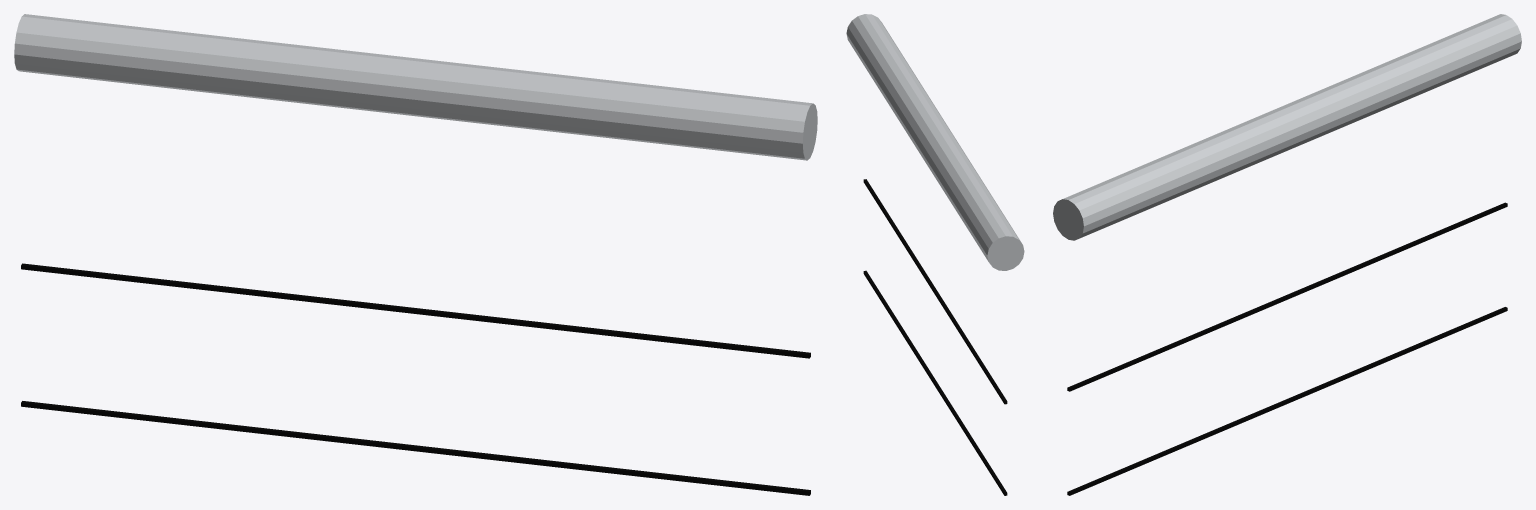
Rendered from 45d_moretop_0_long.obj.
3 views of the same model, side by side, from view 1: azimuth 30°, elevation 25°; view 2: azimuth 150°, elevation 25°; view 3: azimuth 270°, elevation 25° (orthographic). The views are drawn at different scales.
Parts seen in each view (by area): view 1: zd, moretop_1.001, moretop_1.004; view 2: zd, moretop_1.001, moretop_1.004; view 3: zd, moretop_1.001.
Part boxes in pixels (x1,y1,x2,y2): zd: (14, 14, 817, 160); moretop_1.001: (21, 263, 810, 495); moretop_1.004: (277, 292, 492, 458); zd: (846, 14, 1024, 270); moretop_1.001: (863, 179, 1007, 495); moretop_1.004: (909, 252, 961, 420); zd: (1053, 14, 1521, 240); moretop_1.001: (1067, 202, 1507, 495).
Size of the model in its own units: 4.28 by 2.98 by 4.28.
3 materials, 3 textured.
